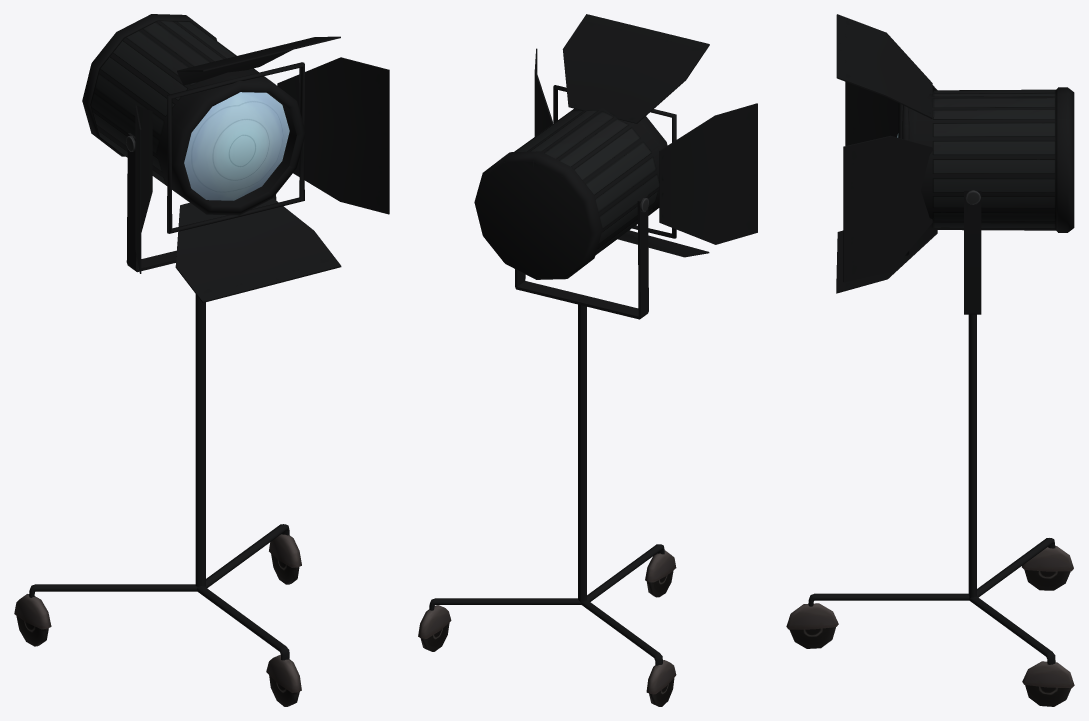
Rendered from Wheely Stage Light.fbx.
3 renders of one model, left to right at view 1: azimuth 30°, elevation 25°; view 2: azimuth 150°, elevation 25°; view 3: azimuth 270°, elevation 25°, orthographic. The views are drawn at different scales.
Parts seen in each view (by area): view 1: StageLight_Base2, StageLight_Pane5, StageLight_Pane7, StageLight_Glass2, LightPole2, FrameCornerPiece5, StageLight_Pane6, StageLight_Pane4, LightFrame_Support2, LightPole4, LightPole3, LightPole5 (+3 smaller); view 2: StageLight_Base2, StageLight_Pane6, StageLight_Pane4, LightFrame_Support2, LightPole2, LightPole5, StageLight_Pane7, LightPole4, StageLight_Pane5, LightPole3, WheelCover9, WheelCover7 (+2 smaller); view 3: StageLight_Base2, StageLight_Pane5, StageLight_Pane4, StageLight_Pane6, LightPole2, LightFrame_Support2, LightPole3, StageLight_Pane7, WheelCover7, WheelCover9, WheelCover8, LightPole5 (+4 smaller).
Part boxes in pixels (<box>): StageLight_Base2: <box>82,14,305,215</box>; StageLight_Pane5: <box>277,57,389,214</box>; StageLight_Pane7: <box>175,198,341,302</box>; StageLight_Glass2: <box>184,92,289,200</box>; LightPole2: <box>195,294,205,586</box>; FrameCornerPiece5: <box>167,62,304,233</box>; StageLight_Pane6: <box>135,105,152,273</box>; StageLight_Pane4: <box>177,36,340,85</box>; LightFrame_Support2: <box>126,133,276,272</box>; LightPole4: <box>29,584,197,597</box>; LightPole3: <box>197,586,289,660</box>; LightPole5: <box>205,524,289,588</box>; StageLight_Base2: <box>474,108,667,279</box>; StageLight_Pane6: <box>659,103,757,244</box>; StageLight_Pane4: <box>562,14,709,123</box>; LightFrame_Support2: <box>515,195,648,319</box>; LightPole2: <box>578,297,586,602</box>; LightPole5: <box>429,598,581,610</box>; StageLight_Pane7: <box>617,230,709,257</box>; LightPole4: <box>581,600,662,665</box>; StageLight_Pane5: <box>534,48,553,136</box>; LightPole3: <box>587,544,664,601</box>; WheelCover9: <box>418,605,451,638</box>; WheelCover7: <box>645,550,676,582</box>; StageLight_Base2: <box>898,87,1074,232</box>; StageLight_Pane5: <box>843,135,932,282</box>; StageLight_Pane4: <box>836,14,932,118</box>; StageLight_Pane6: <box>845,81,937,145</box>; LightPole2: <box>968,314,976,597</box>; LightFrame_Support2: <box>964,189,981,314</box>; LightPole3: <box>808,593,969,606</box>; StageLight_Pane7: <box>836,230,937,293</box>; WheelCover7: <box>786,603,838,629</box>; WheelCover9: <box>1022,661,1074,688</box>; WheelCover8: <box>1022,546,1073,571</box>; LightPole5: <box>969,596,1055,664</box>.
Bounding box in the file's own units: 9.67 × 22.32 × 9.67.
